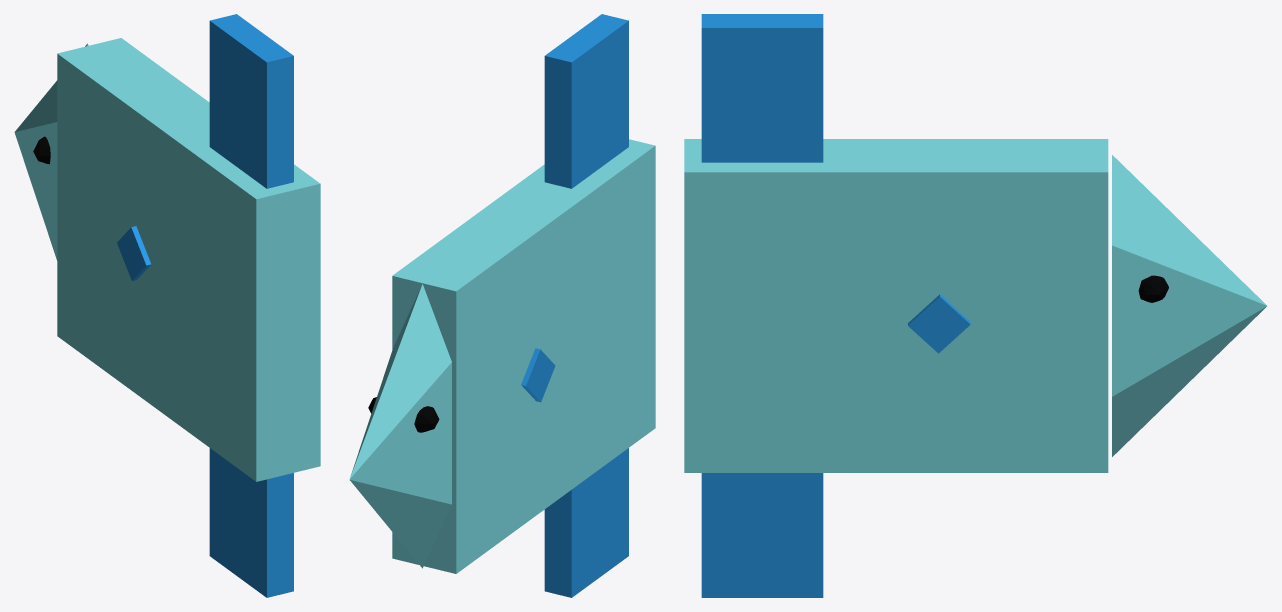
Rendered from SunFish.glb.
3 renders of one model, left to right at view 1: azimuth 30°, elevation 25°; view 2: azimuth 150°, elevation 25°; view 3: azimuth 270°, elevation 25°, orthographic. The views are drawn at different scales.
Visible parts, largest first — view 1: Cube, Cube.001, Cube.004, Cone, Cube.003; view 2: Cube, Cone, Cube.001, Cube.004, Cube.003, Icosphere; view 3: Cube, Cone, Cube.001, Cube.004, Cube.002.
Part boxes in pixels (box(x1,y1,x2,y2)): Cube: box(57, 38, 320, 481); Cube.001: box(209, 14, 293, 188); Cube.004: box(209, 448, 293, 597); Cone: box(14, 43, 88, 260); Cube.003: box(117, 226, 151, 280); Cube: box(392, 139, 655, 573); Cone: box(349, 284, 451, 568); Cube.001: box(544, 14, 628, 188); Cube.004: box(544, 448, 628, 597); Cube.003: box(521, 348, 555, 402); Icosphere: box(368, 397, 439, 432); Cube: box(684, 139, 1108, 472); Cone: box(1112, 155, 1266, 456); Cube.001: box(701, 14, 823, 162); Cube.004: box(701, 473, 823, 597); Cube.002: box(908, 294, 970, 353).
Bounding box in the file's own units: 0.7706 × 5.32 × 4.93.
